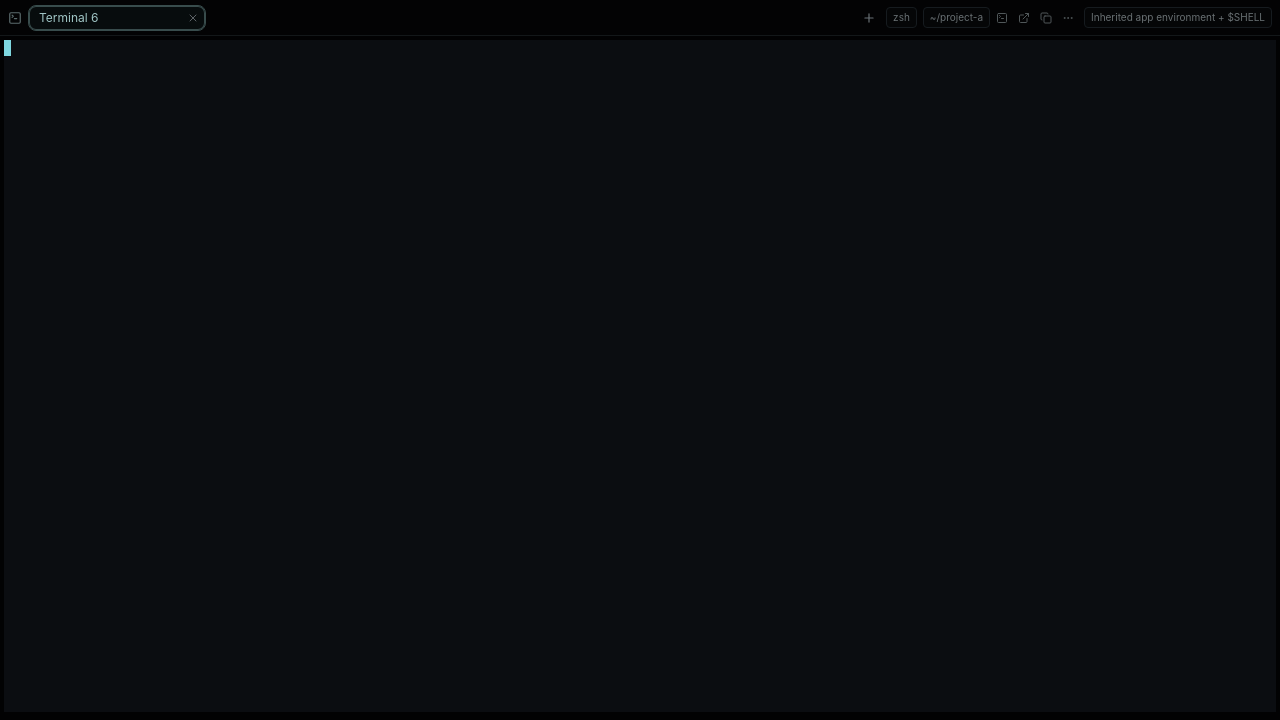
Test: shows recovery guidance when copying the terminal cwd shell open command fails
Click the button named "Terminal cwd automation actions": (1068, 18) left=1058, top=8, right=1078, bottom=28
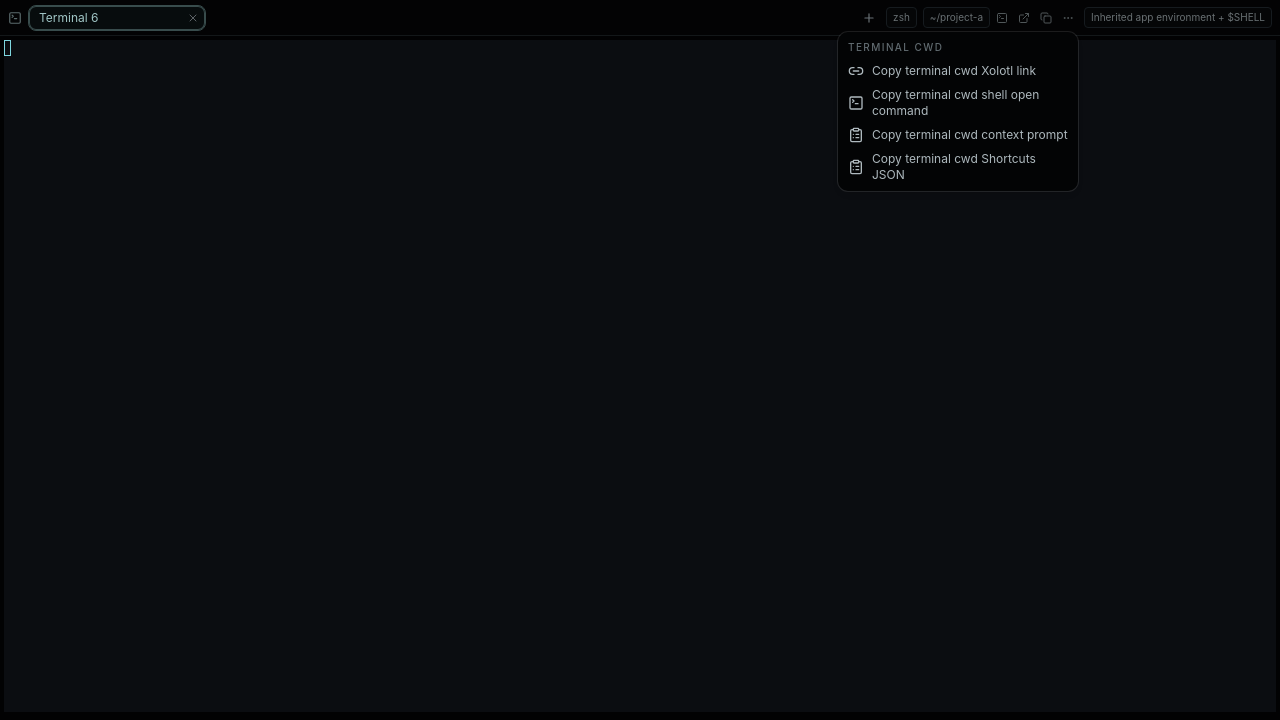
Click the menu item "Copy terminal cwd shell open command": (944, 102) left=848, top=87, right=1039, bottom=118
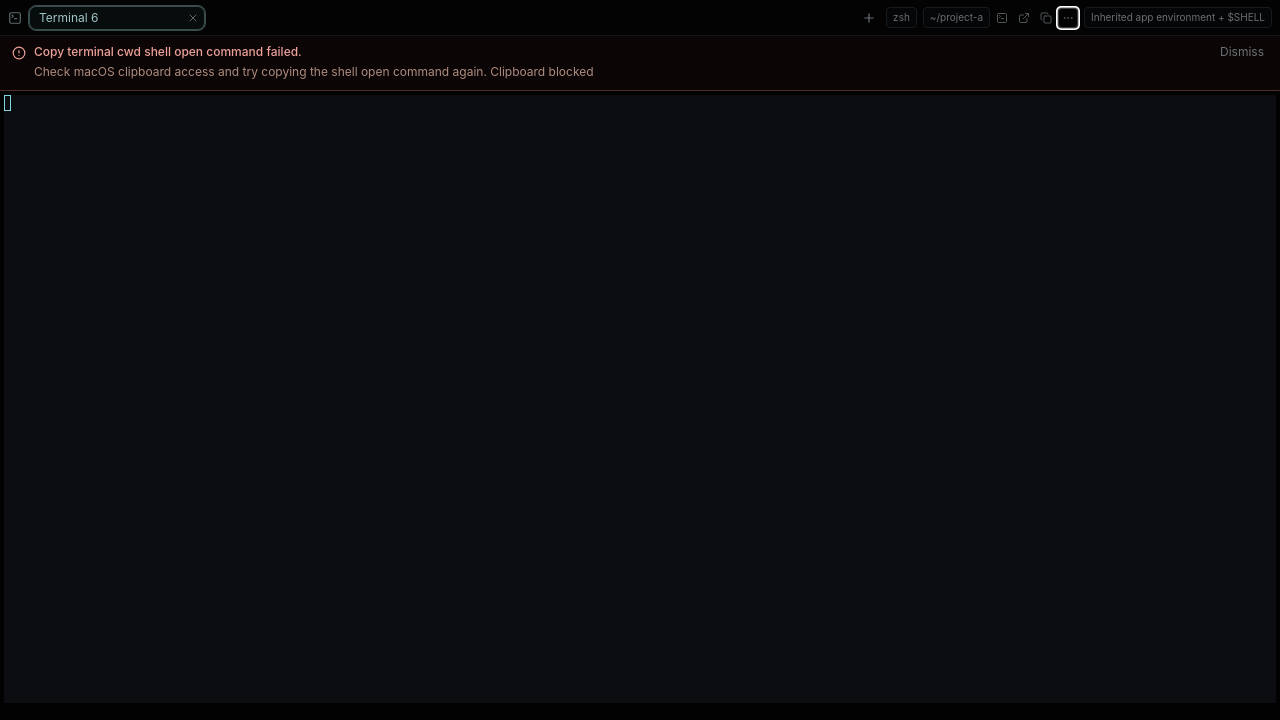
Now the text "Copy terminal cwd shell open command failed." is shown, box left=34, top=44, right=302, bottom=59
Now the text "Clipboard blocked" is shown, box left=34, top=64, right=594, bottom=79
